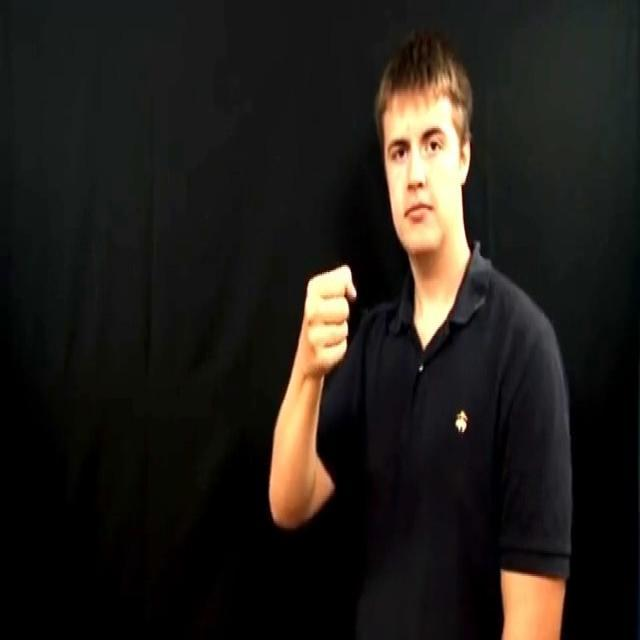milk: (274, 220, 378, 463)
